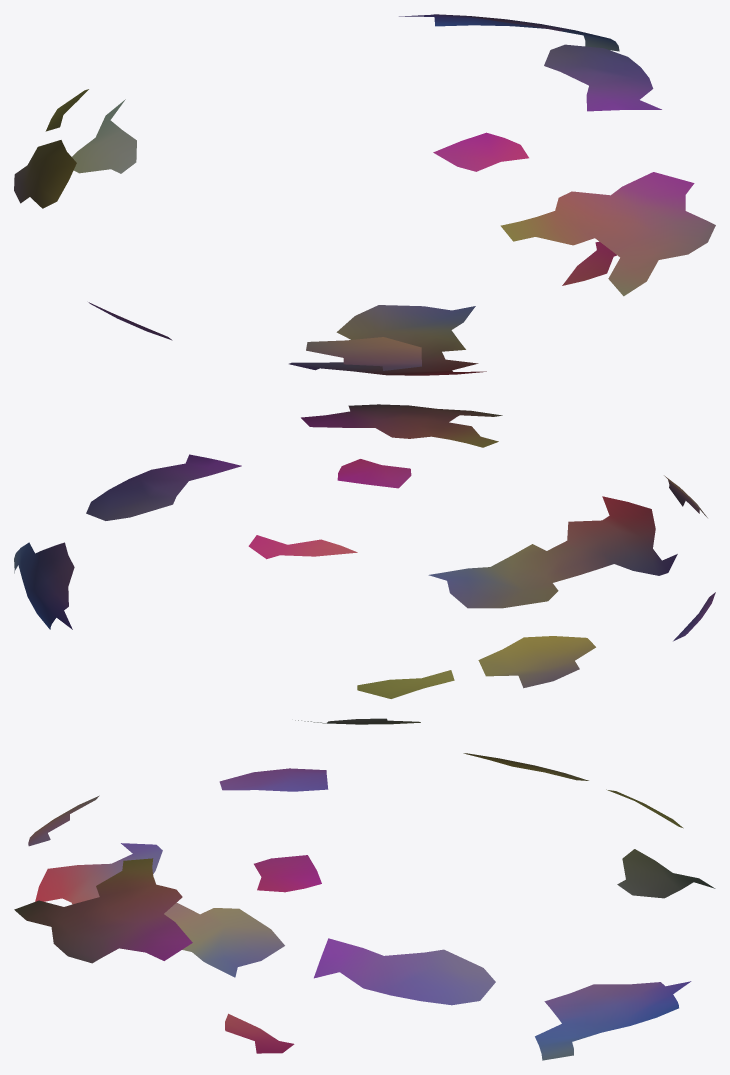
File: space-galaxies-irregular-galaxy_v8.glb
The picture shows the model from 3 angles, top to bottom: view 1: azimuth 30°, elevation 25°; view 2: azimuth 150°, elevation 25°; view 3: azimuth 270°, elevation 25°; orthographic projection. The views are drawn at different scales.
Visible parts, largest first — view 1: Irregular Galaxy_v8; view 2: Irregular Galaxy_v8; view 3: Irregular Galaxy_v8.
Boxes of the visible parts, left/top/right/bottom form: Irregular Galaxy_v8: left=14, top=14, right=715, bottom=375; Irregular Galaxy_v8: left=14, top=404, right=715, bottom=724; Irregular Galaxy_v8: left=14, top=753, right=715, bottom=1060.
Bounding box in the file's own units: 0.5 × 0.0945 × 0.495.
